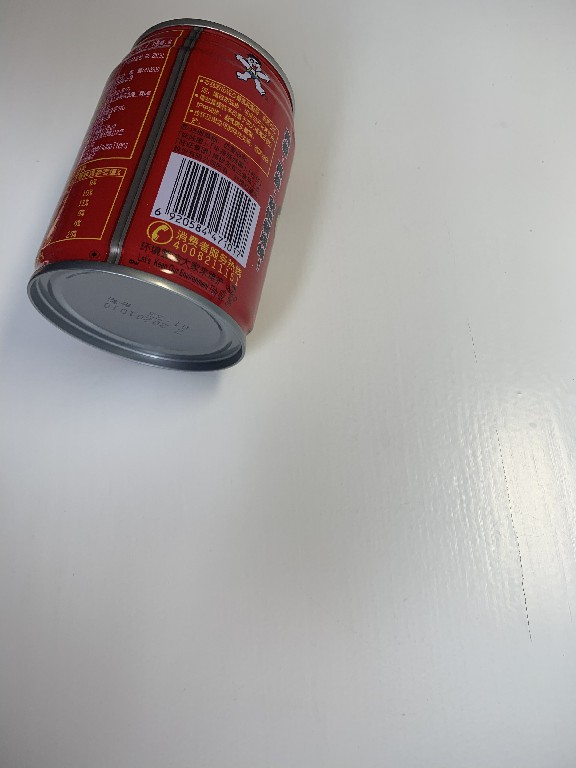can: (24, 12, 301, 375)
